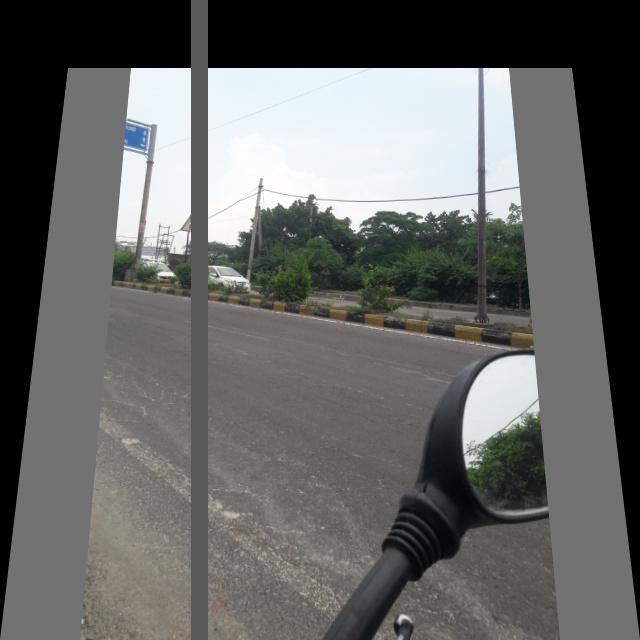Gap_in_Median: (178, 210, 202, 235)
